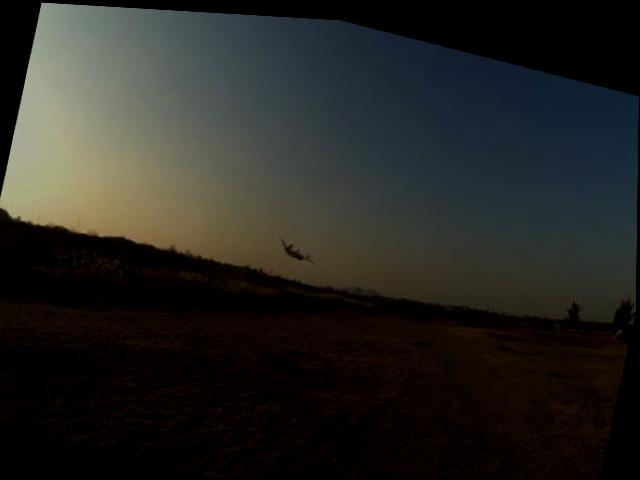uav: (271, 226, 327, 273)
